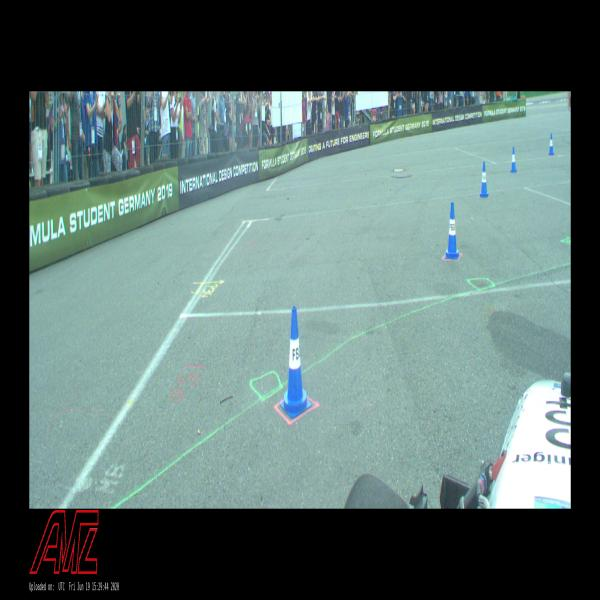blue_cone: (280, 306, 311, 417), (444, 202, 459, 260), (480, 162, 488, 198), (510, 147, 517, 173), (548, 134, 554, 155)
